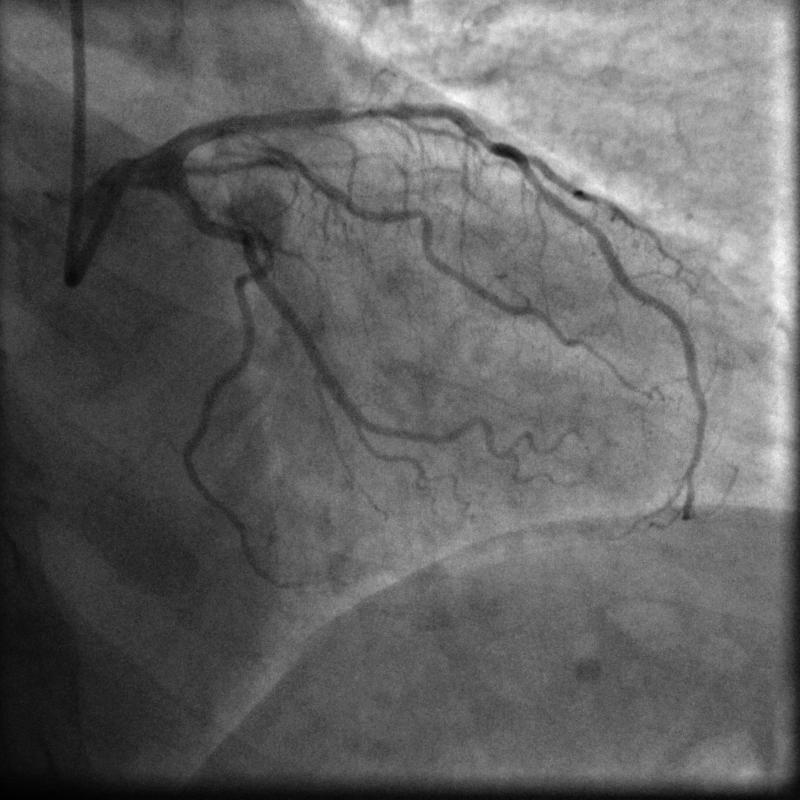Stenosis: (329, 102, 402, 119)
